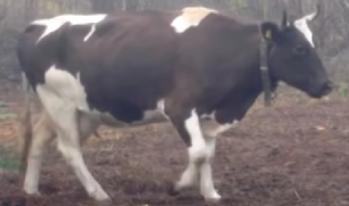cow: (17, 3, 334, 206)
